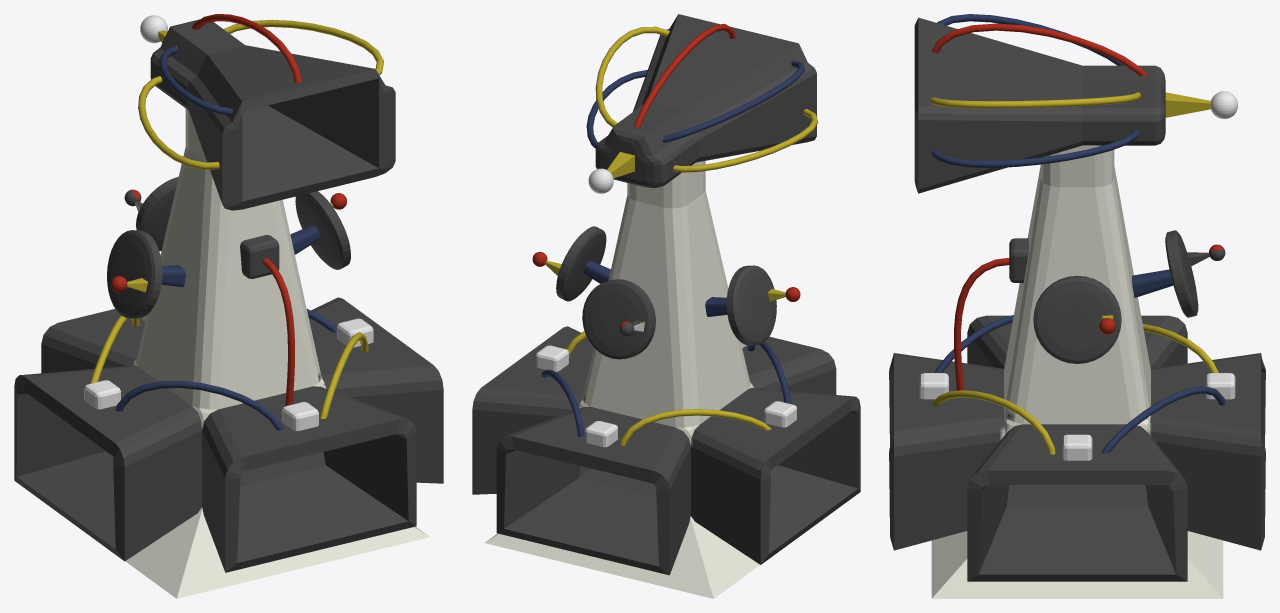
Rendered from Escupidora.fbx.
The picture shows the model from 3 angles, left to right: view 1: azimuth 30°, elevation 25°; view 2: azimuth 150°, elevation 25°; view 3: azimuth 270°, elevation 25°; orthographic projection. The views are drawn at different scales.
Parts seen in each view (by area): view 1: Cube, Cube.004, Cylinder.010, Cylinder.002, Cylinder.001, Cube.001, Cube.005, Cube.003; view 2: Cube, Cube.004, Cylinder.001, Cylinder.010, Cylinder.002, Cube.005, Cube.002, Cube.003; view 3: Cube, Cube.004, Cylinder.002, Cylinder.001, Cube.003, Cube.001, Cube.002.
Boxes of the visible parts, box(x1,y1,x2,y2) form: Cube: box(14, 108, 443, 598); Cube.004: box(138, 14, 395, 210); Cylinder.010: box(107, 230, 162, 318); Cylinder.002: box(295, 191, 350, 269); Cylinder.001: box(124, 176, 178, 250); Cube.001: box(282, 402, 318, 430); Cube.005: box(84, 380, 120, 409); Cube.003: box(337, 318, 373, 347); Cube: box(472, 161, 860, 598); Cube.004: box(586, 14, 818, 193); Cylinder.001: box(582, 279, 655, 359); Cylinder.010: box(726, 265, 800, 345); Cylinder.002: box(532, 226, 606, 301); Cube.005: box(764, 401, 796, 427); Cube.002: box(585, 421, 617, 447); Cube.003: box(536, 345, 568, 371); Cube: box(889, 145, 1265, 598); Cube.004: box(914, 14, 1237, 193); Cylinder.002: box(1033, 275, 1121, 363); Cylinder.001: box(1165, 230, 1225, 317); Cube.003: box(1062, 434, 1092, 460); Cube.001: box(919, 373, 948, 399); Cube.002: box(1206, 373, 1235, 399).
Bounding box in the file's own units: 513 × 770 × 513.
